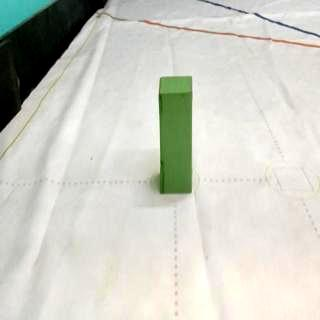greenbox: (158, 74, 195, 195)
